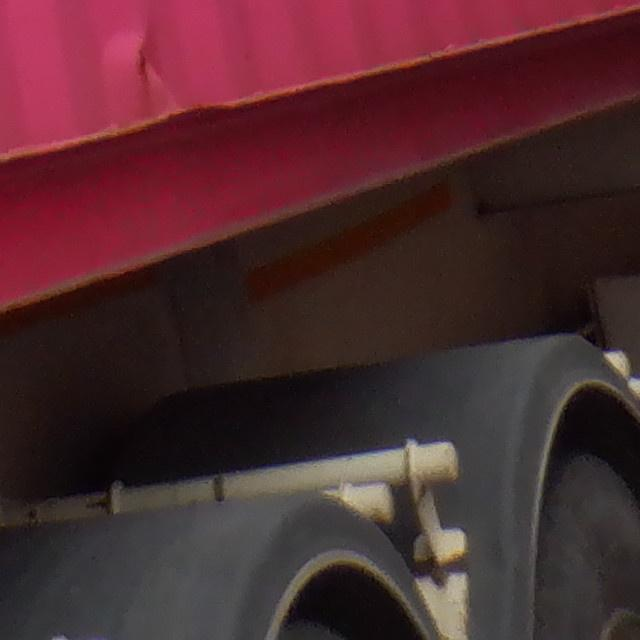dent: (89, 13, 200, 114)
